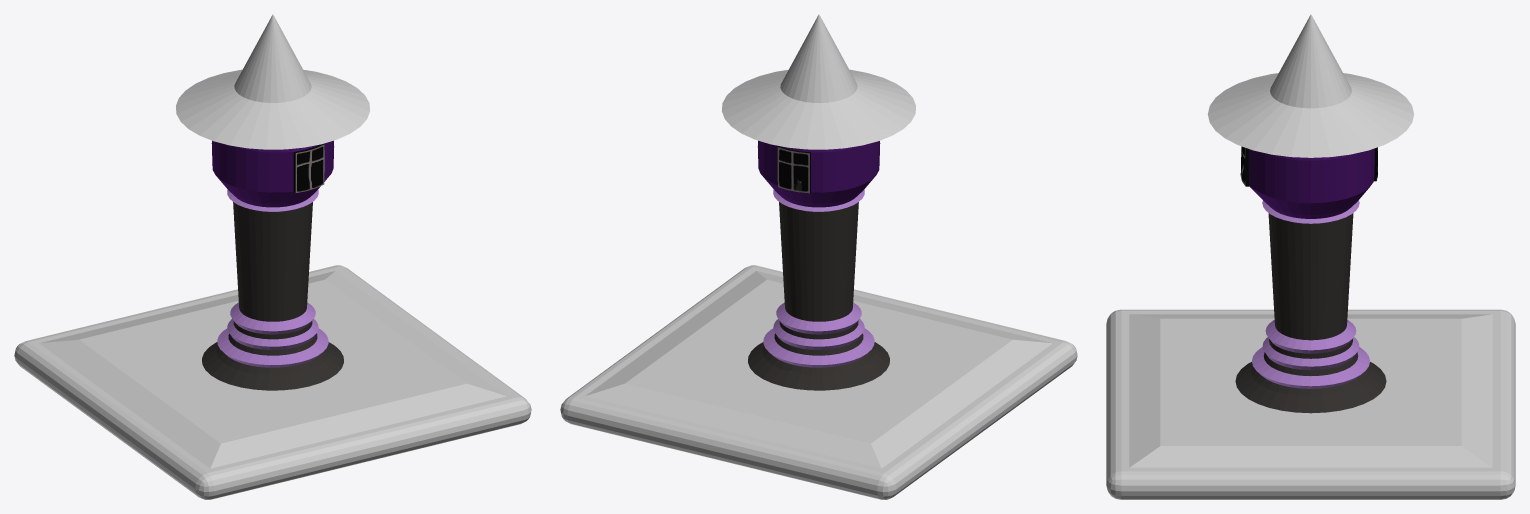
Rendered from wizardtower.obj.
3 views of the same model, side by side, from view 1: azimuth 30°, elevation 25°; view 2: azimuth 150°, elevation 25°; view 3: azimuth 270°, elevation 25° (orthographic). The views are drawn at different scales.
Parts seen in each view (by area): view 1: Alap_fent, Test, Alap_lent, Tető_lent, Tető_fent; view 2: Alap_fent, Test, Alap_lent, Tető_lent, Tető_fent; view 3: Alap_fent, Test, Alap_lent, Tető_lent, Tető_fent.
Part boxes in pixels (x1,y1,x2,y2): Alap_fent: [39, 271, 506, 468]; Test: [202, 140, 343, 390]; Alap_lent: [14, 265, 531, 499]; Tető_lent: [176, 69, 369, 149]; Tető_fent: [234, 14, 311, 102]; Alap_fent: [585, 271, 1052, 468]; Test: [748, 140, 889, 390]; Alap_lent: [560, 265, 1077, 499]; Tető_lent: [722, 69, 915, 149]; Tető_fent: [780, 14, 857, 102]; Alap_fent: [1129, 314, 1492, 467]; Test: [1235, 146, 1386, 413]; Alap_lent: [1106, 309, 1515, 499]; Tető_lent: [1207, 73, 1414, 157]; Tető_fent: [1270, 14, 1351, 108].
Bounding box in the file's own units: 7.42 × 8.08 × 7.42.
